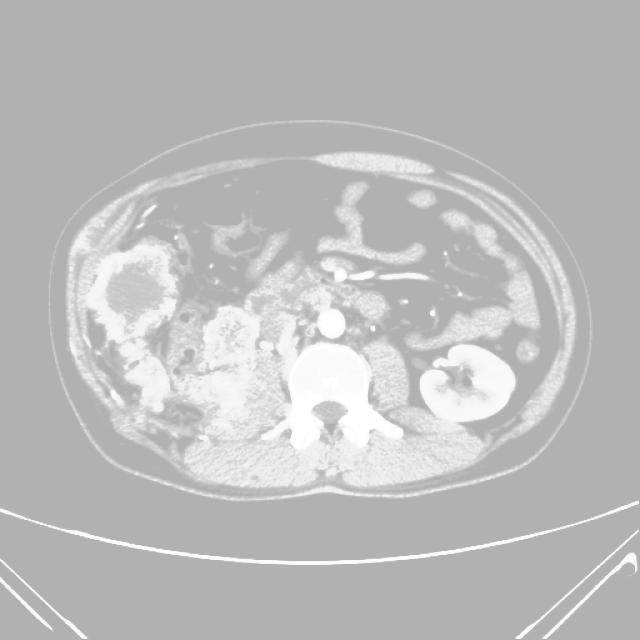TUMOR: (134, 196, 542, 410)
